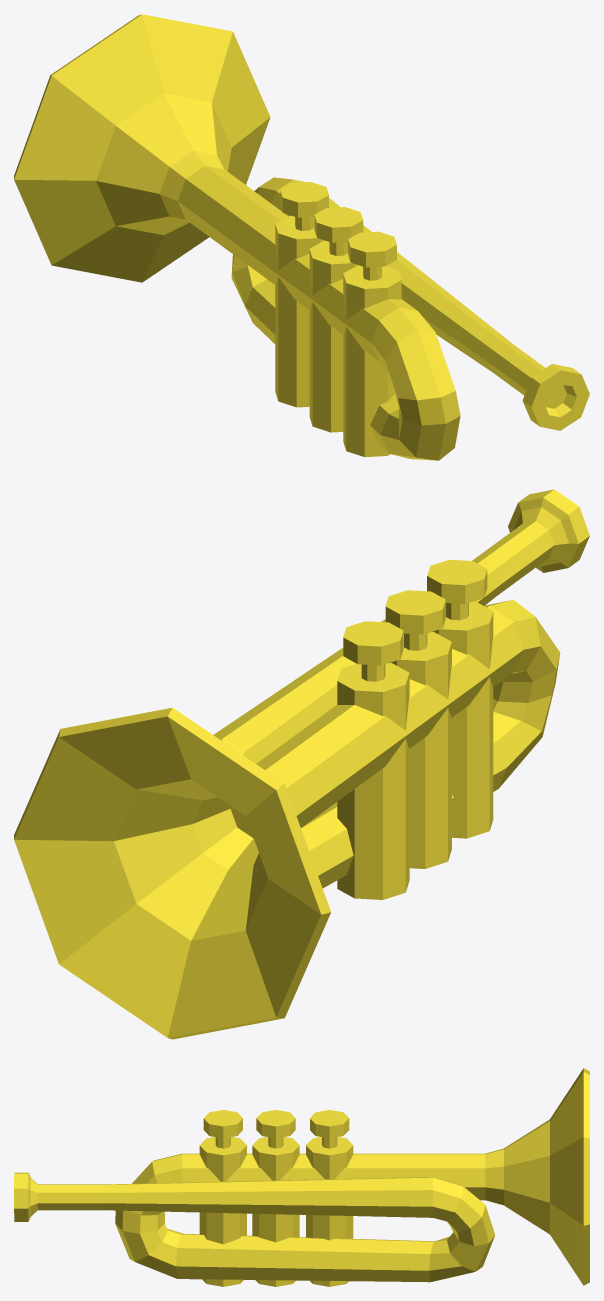
The model's file is Trumpet_01.obj.
3 views of the same model, one above another, from view 1: azimuth 30°, elevation 25°; view 2: azimuth 150°, elevation 25°; view 3: azimuth 270°, elevation 25° (orthographic). The views are drawn at different scales.
Parts seen in each view (by area): view 1: trumpet_Circle.006; view 2: trumpet_Circle.006; view 3: trumpet_Circle.006.
Boxes of the visible parts, bbox=[...] form: trumpet_Circle.006: bbox=[14, 14, 589, 460]; trumpet_Circle.006: bbox=[14, 489, 589, 1039]; trumpet_Circle.006: bbox=[14, 1068, 589, 1286].
Size of the model in its own units: 7.24 by 7.24 by 17.99.
